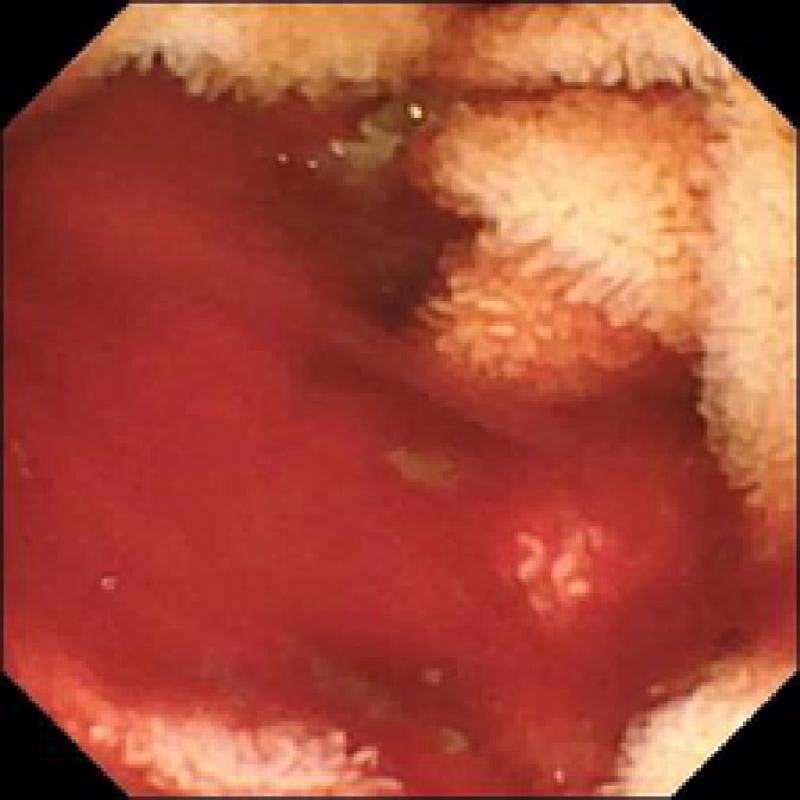bleeding: (0, 75, 754, 800)
